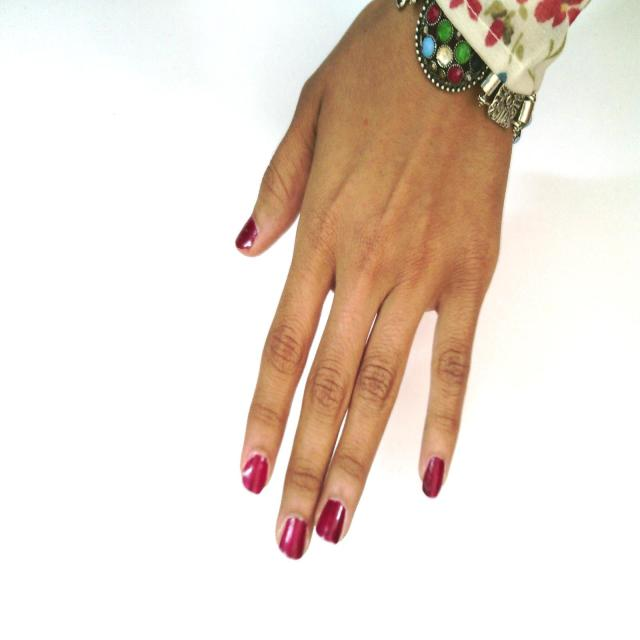hand: (222, 129, 477, 555)
